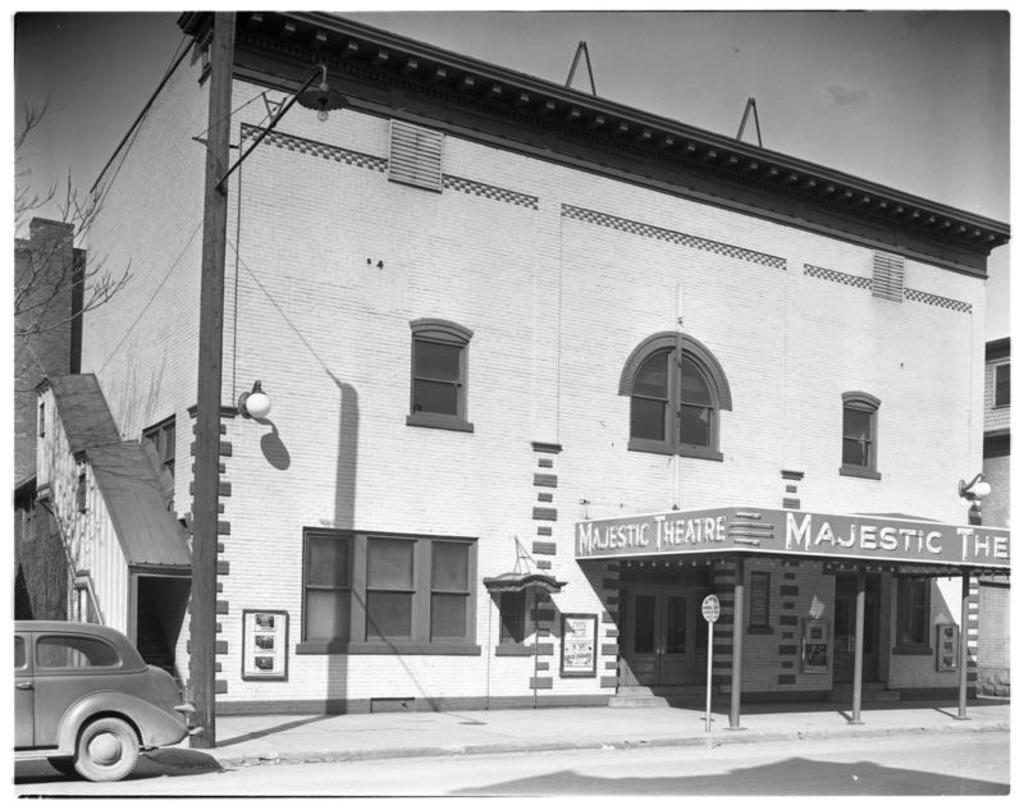Car: (16, 614, 200, 790)
